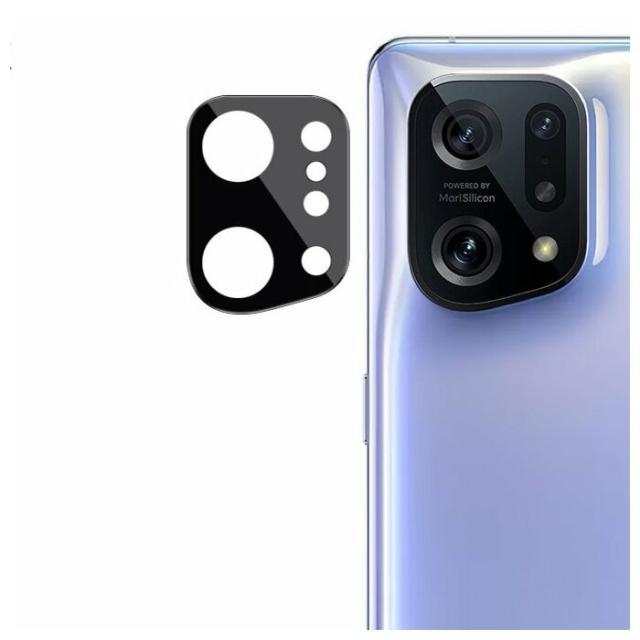hidden camera: (368, 51, 633, 324)
